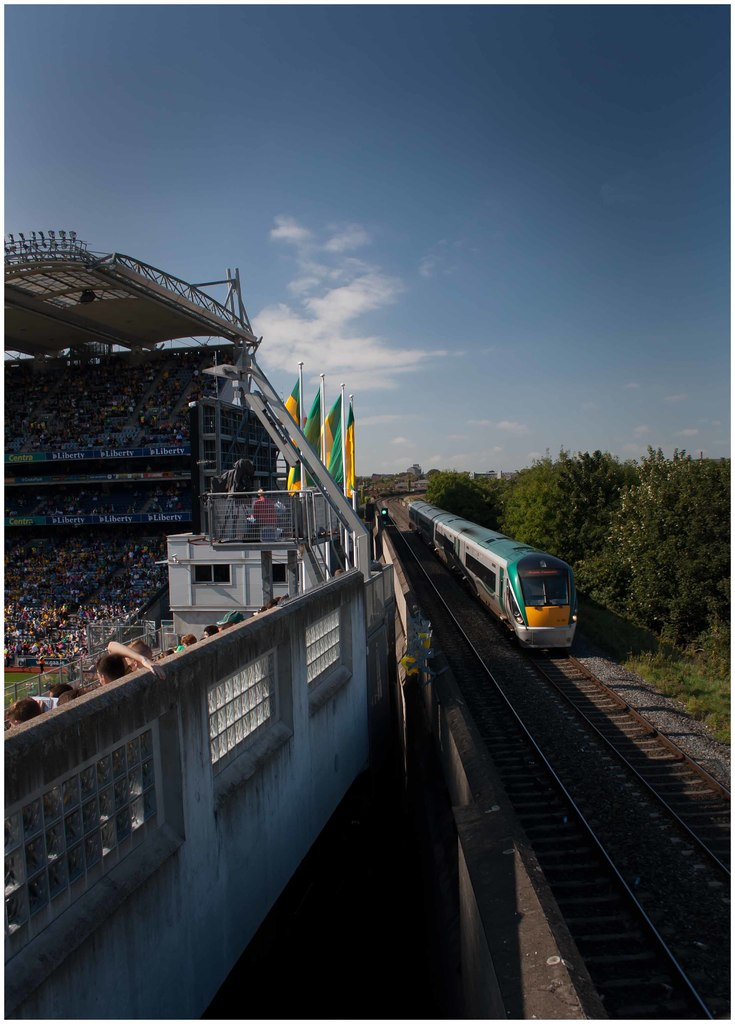train: (405, 501, 574, 651)
